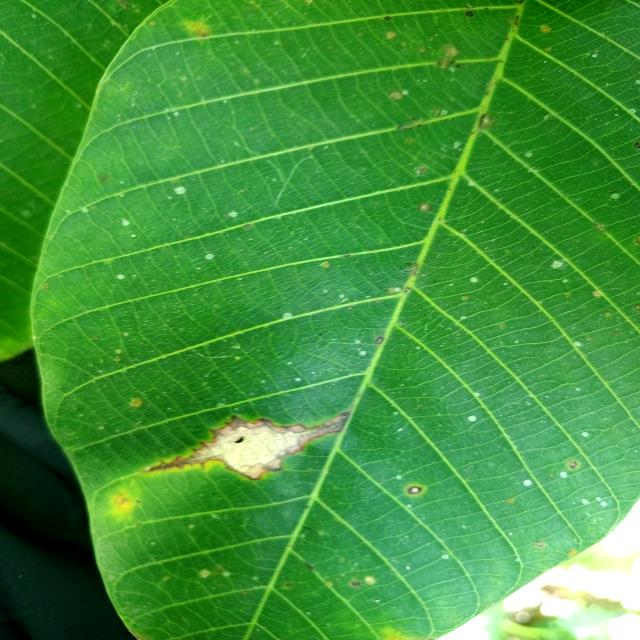Colletotrichum: (408, 486, 422, 494), (376, 337, 384, 344), (633, 141, 640, 149), (466, 11, 473, 17)
Corynespora: (148, 411, 351, 478)
